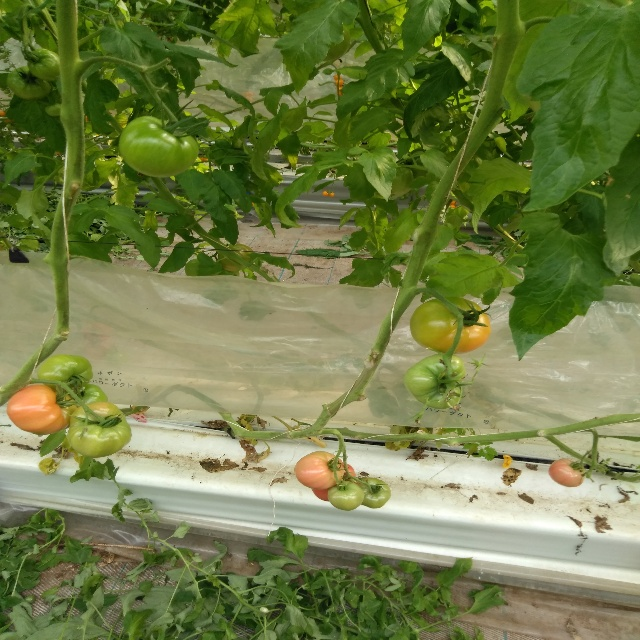b_green: (119, 116, 199, 177), (66, 401, 131, 458), (403, 354, 466, 410), (37, 354, 94, 391), (7, 66, 51, 100), (328, 480, 365, 511), (27, 48, 61, 81), (355, 477, 391, 508), (65, 383, 108, 408), (218, 244, 254, 272), (44, 104, 61, 117)
b_half_ripened: (409, 296, 492, 354), (6, 385, 78, 435), (294, 451, 345, 490), (548, 458, 584, 488)
